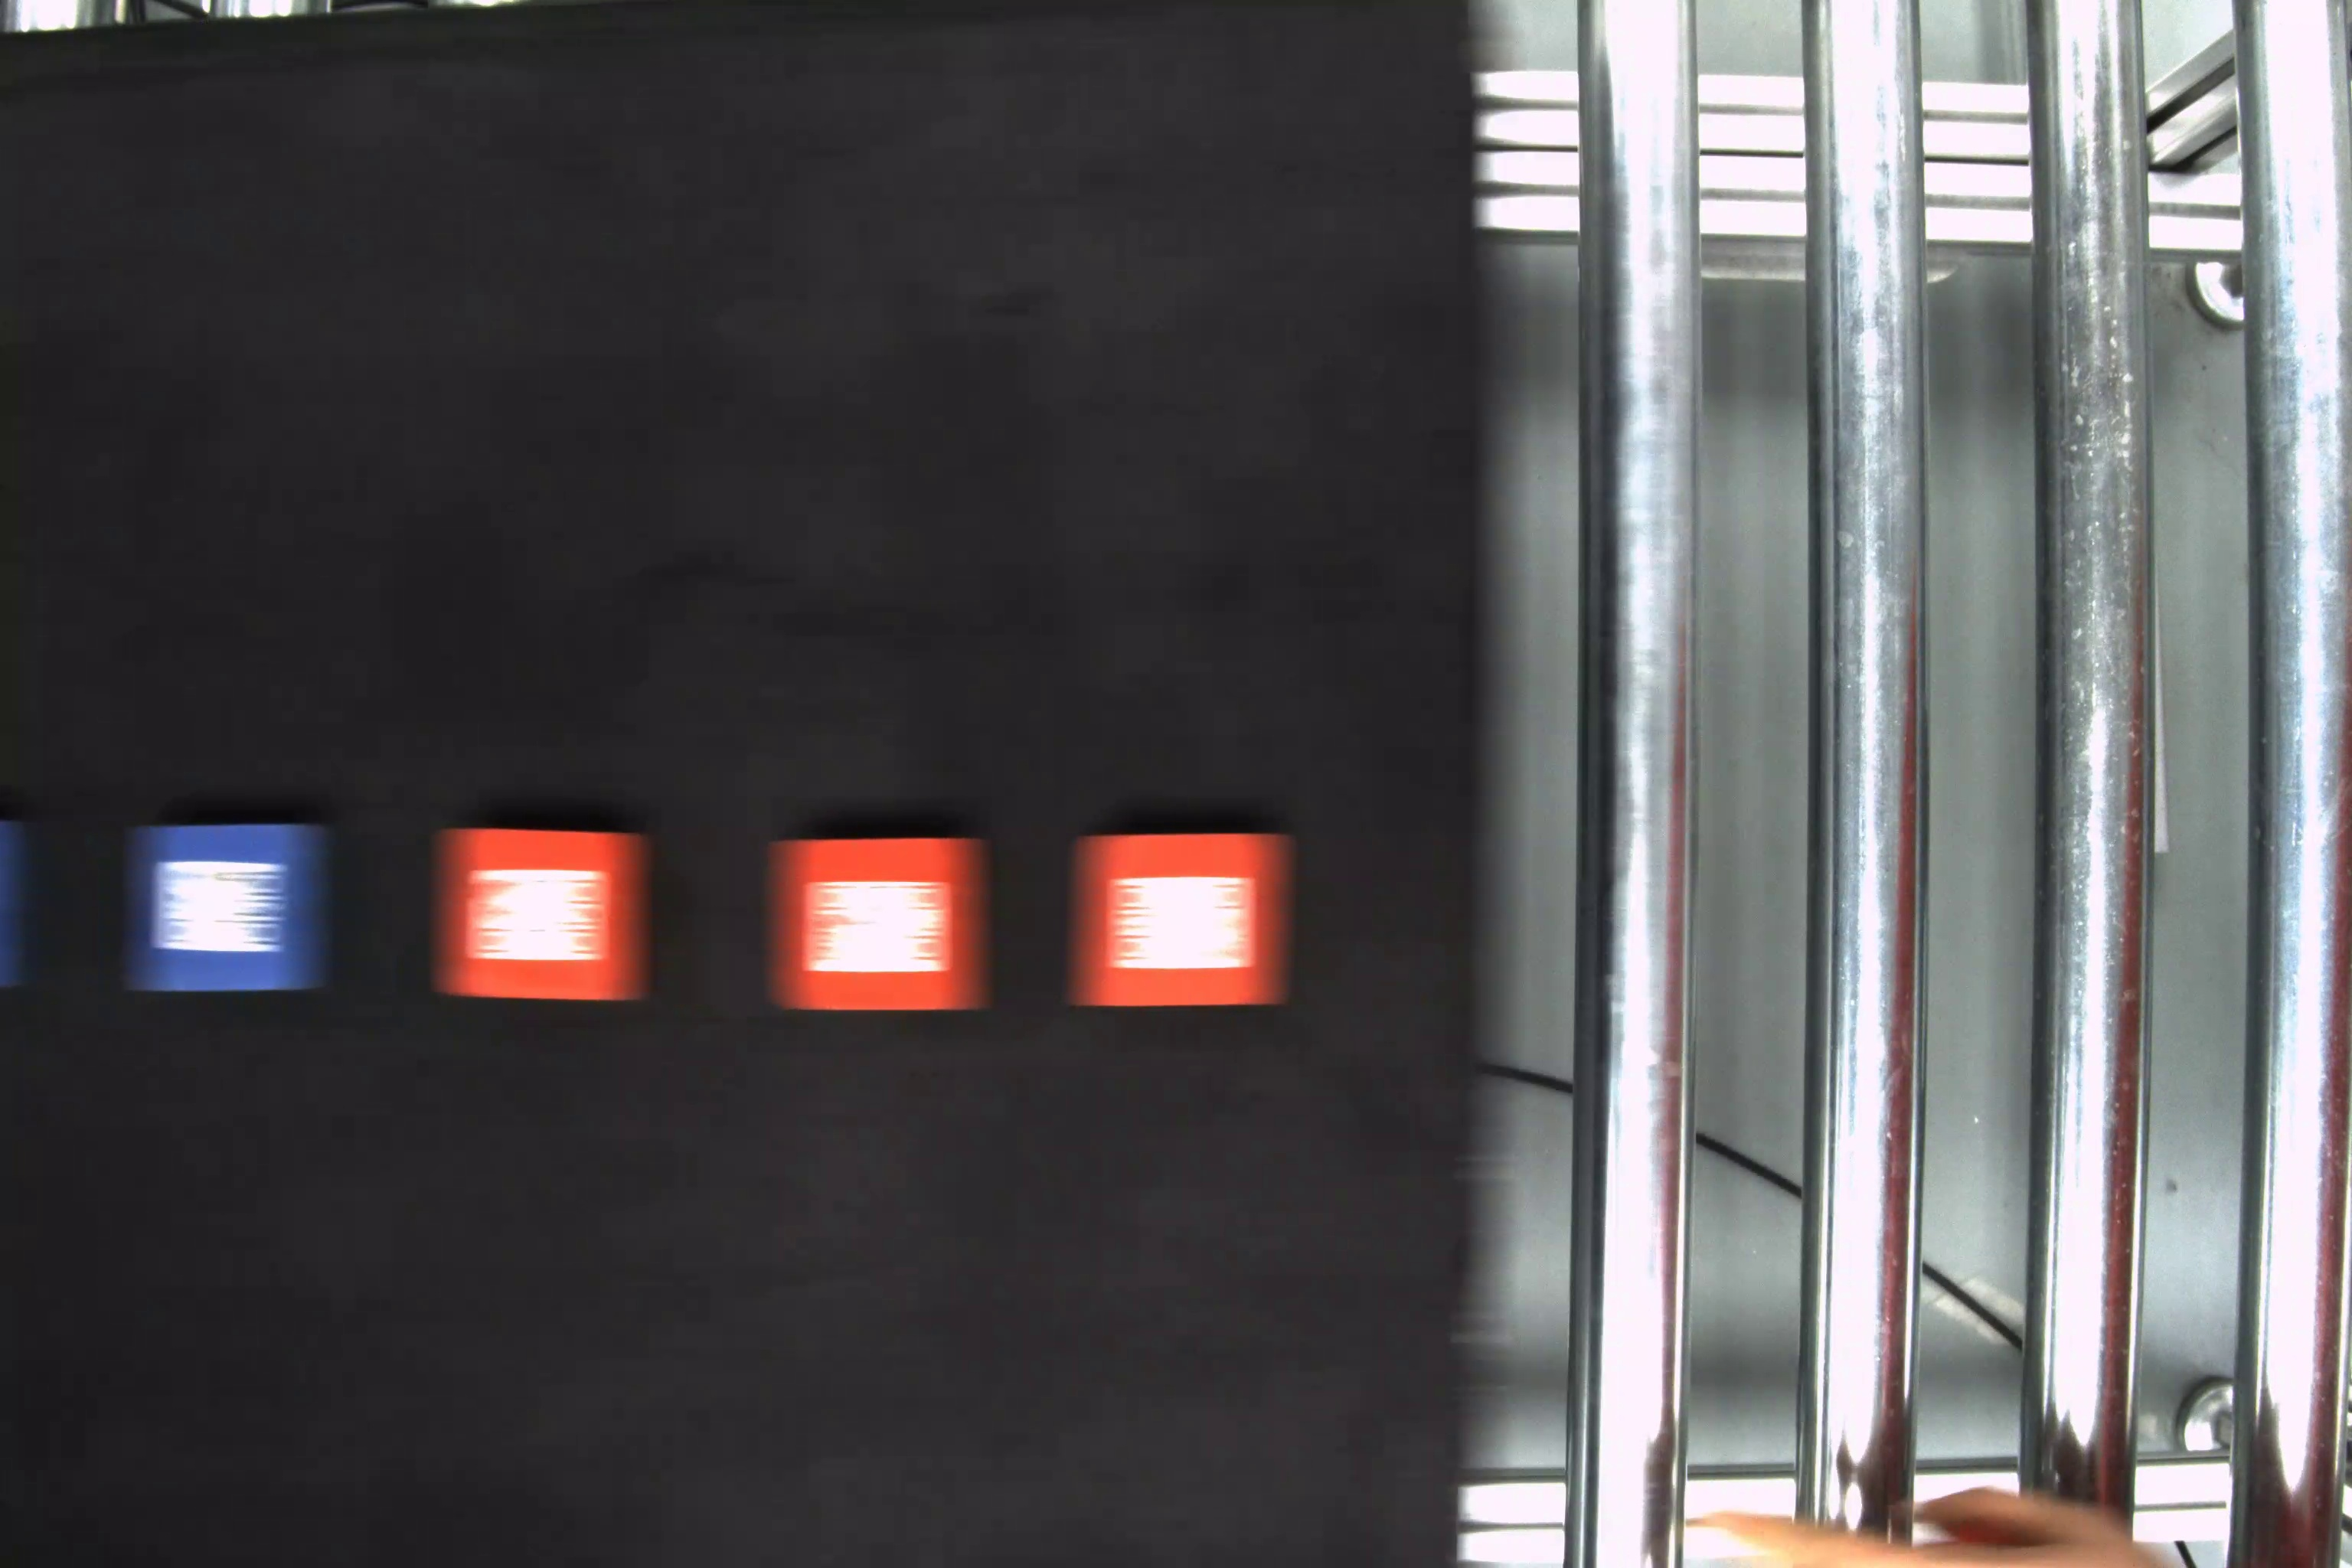wood: (425, 819, 660, 1011), (765, 824, 1001, 1015), (1067, 836, 1288, 1017), (129, 822, 336, 990)
